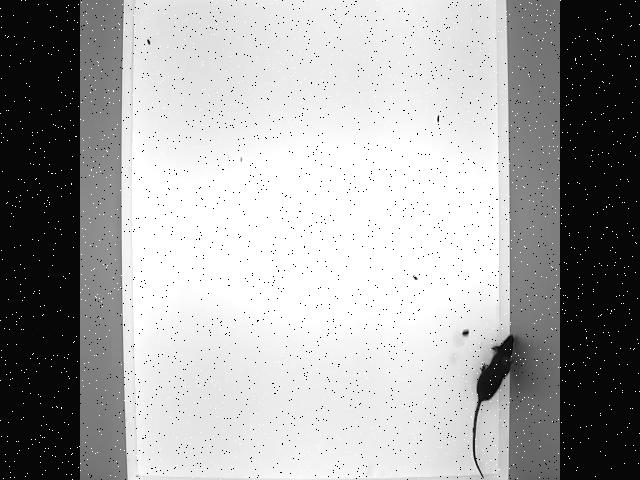Tikus: (464, 328, 521, 480)
